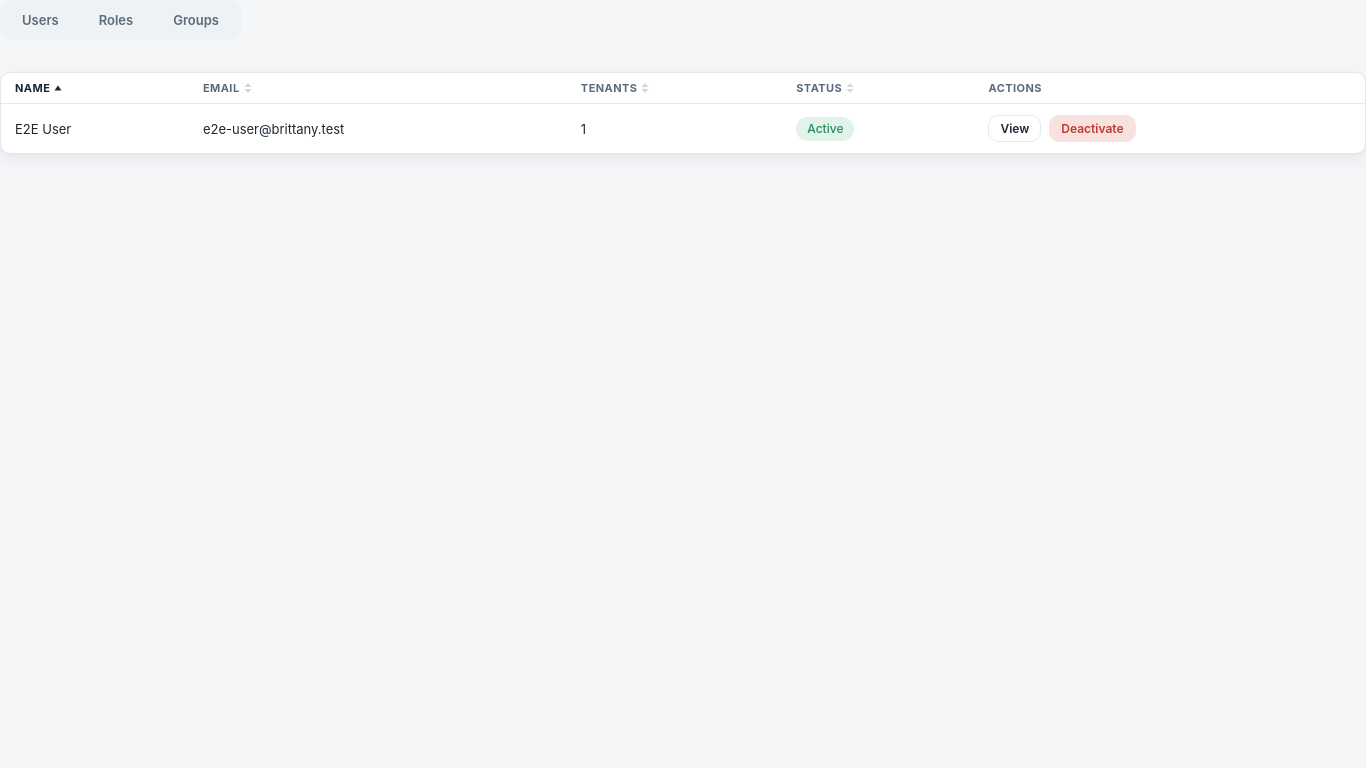
UserListPage › click_WhenDeactivateClicked_ShouldOpenDangerDialogWithUserEmail
This screenshot has width=1366, height=768.
Click the button "Deactivate": (1092, 128) [1049,115,1136,142]
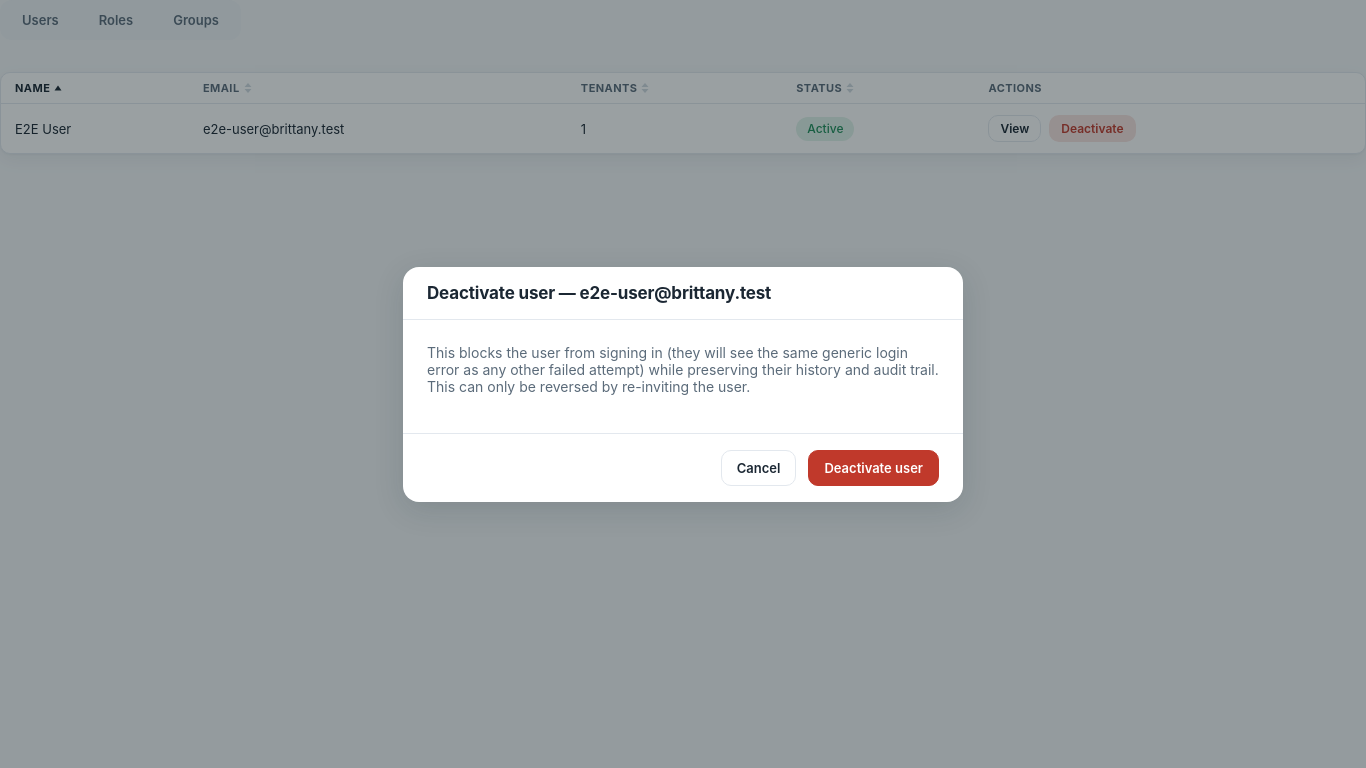
Check: the element with test id "deactivate-user-dialog" is shown
Check: the heading "Deactivate user — e2e-user@brittany.test" is shown, box [427,282,771,302]
